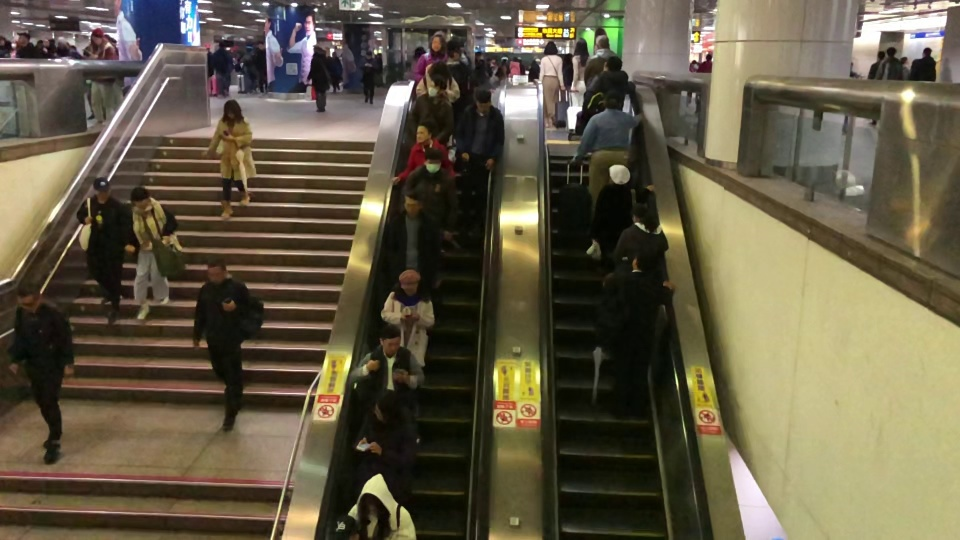person_head: (355, 473, 393, 519), (372, 386, 401, 425), (13, 280, 41, 312), (377, 323, 402, 358), (329, 513, 361, 540), (603, 161, 633, 188), (204, 257, 229, 287), (397, 267, 422, 297), (631, 249, 659, 274), (629, 198, 653, 227), (402, 189, 425, 218), (421, 147, 444, 175), (130, 183, 151, 209), (91, 175, 111, 201), (601, 90, 625, 111), (414, 121, 435, 143), (428, 74, 447, 98), (474, 88, 491, 114), (602, 55, 624, 73), (223, 98, 241, 119), (431, 32, 446, 55), (88, 27, 104, 46), (594, 32, 610, 51), (572, 37, 588, 55), (15, 30, 31, 46), (543, 41, 558, 56), (886, 45, 897, 57), (899, 55, 909, 66), (876, 49, 885, 61), (256, 40, 265, 51), (923, 46, 932, 57), (365, 49, 373, 60), (313, 45, 322, 53), (704, 52, 712, 61), (218, 41, 225, 48), (331, 51, 337, 58)
person_vbox: (598, 253, 676, 418), (7, 280, 75, 465), (191, 258, 251, 432), (571, 91, 644, 220), (125, 187, 181, 320), (77, 175, 128, 321), (455, 89, 504, 233), (355, 388, 416, 501), (201, 100, 257, 218), (589, 162, 657, 258), (352, 324, 425, 408), (388, 191, 441, 301), (380, 268, 435, 370), (401, 148, 455, 238), (347, 473, 416, 540), (609, 203, 669, 271), (80, 27, 120, 127), (392, 122, 454, 185), (405, 75, 454, 151), (582, 55, 636, 119), (538, 40, 565, 128), (407, 33, 448, 82), (583, 34, 618, 91), (416, 60, 460, 101), (305, 45, 330, 112), (570, 37, 591, 106), (211, 39, 233, 97), (358, 50, 379, 104), (13, 29, 45, 59), (910, 48, 938, 81), (251, 41, 268, 95), (875, 47, 901, 81), (328, 50, 344, 93), (868, 49, 885, 79), (696, 51, 713, 72), (900, 54, 910, 81)
